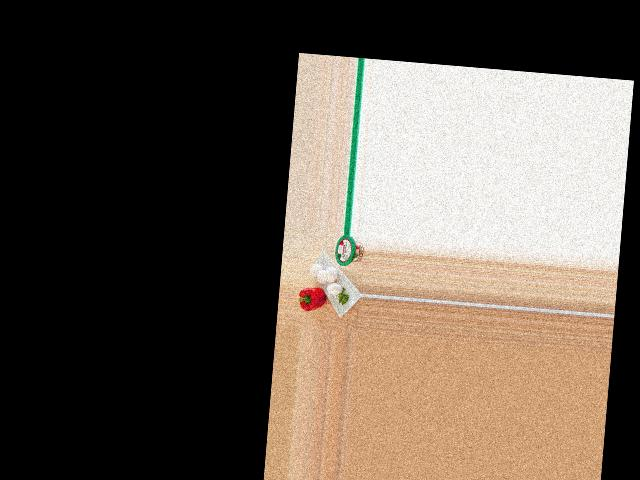bell_pepper: (298, 281, 326, 314)
